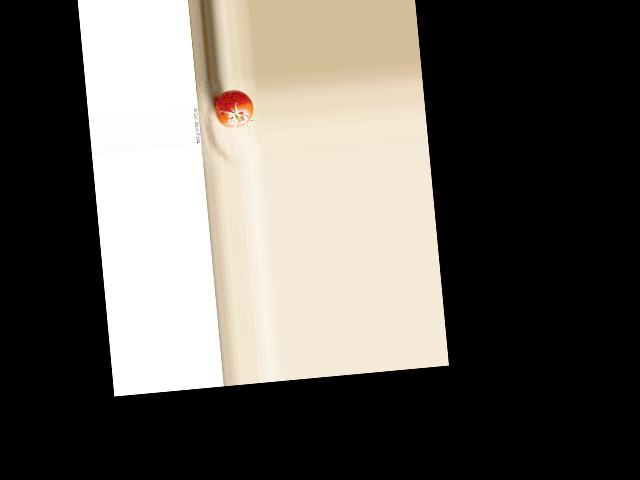tomato: (213, 88, 254, 130)
